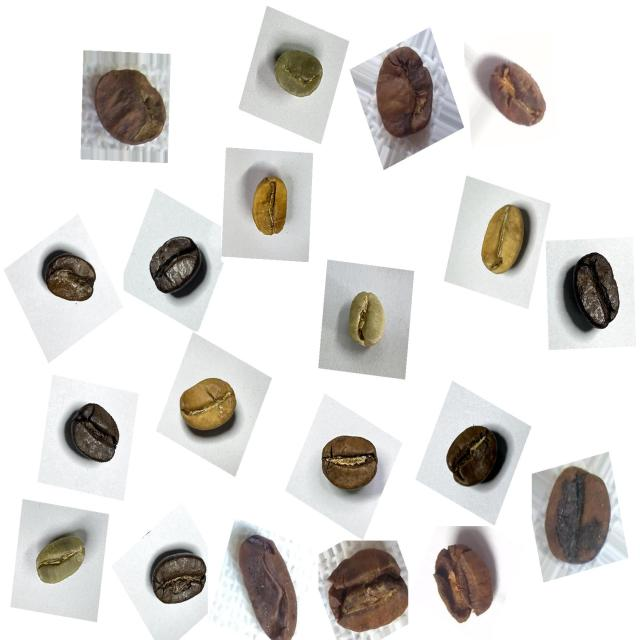bad: (533, 455, 621, 574), (319, 536, 416, 638), (84, 57, 177, 162), (366, 35, 450, 149), (228, 526, 308, 640), (426, 524, 508, 635), (478, 47, 553, 138)
dark: (554, 243, 634, 343), (434, 411, 510, 498), (141, 224, 215, 310), (60, 391, 131, 477), (141, 539, 213, 620), (37, 243, 106, 320)
green: (26, 522, 96, 600), (262, 36, 331, 113), (334, 279, 398, 362)
light: (467, 191, 538, 285), (173, 367, 250, 452), (242, 167, 302, 251)
medium: (312, 424, 387, 504)
